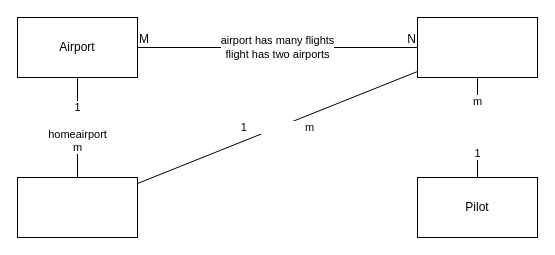
The diagram is 555 pixels wide and 255 high, and some of its shapes have lost their labels. Here are the shapes that lost their labels. From the top down, the centre of each, then its label:
At [477,47]: "Flight".
At [77,207]: "Airplane".
